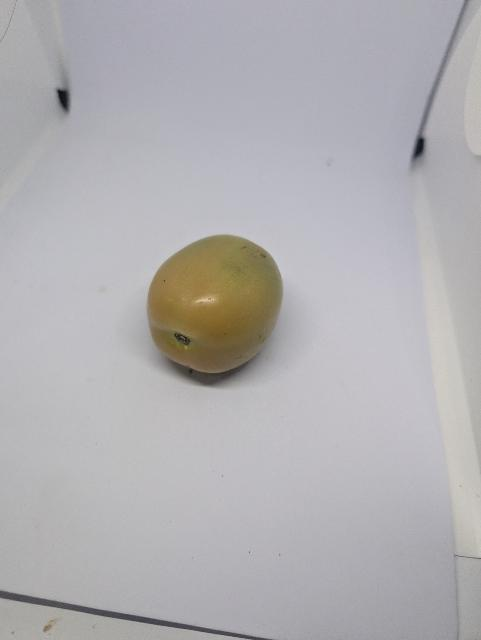breaker: (146, 225, 288, 381)
